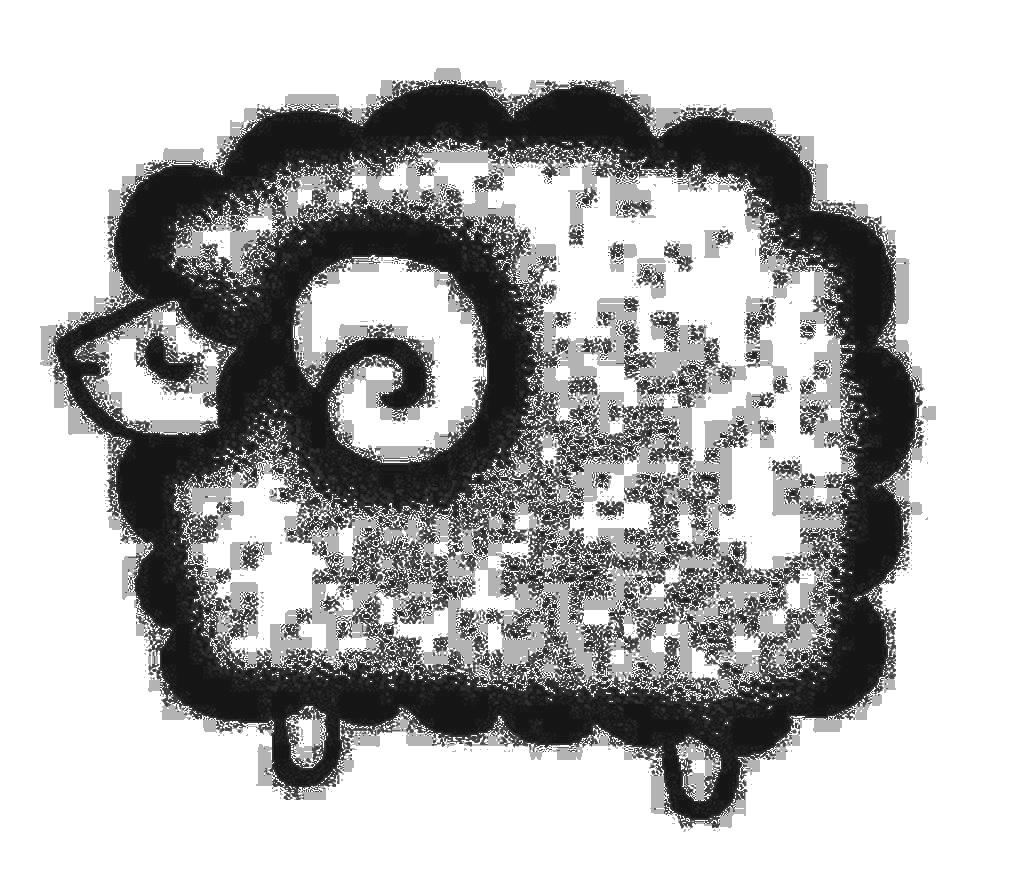Sheep: (52, 83, 916, 824)
